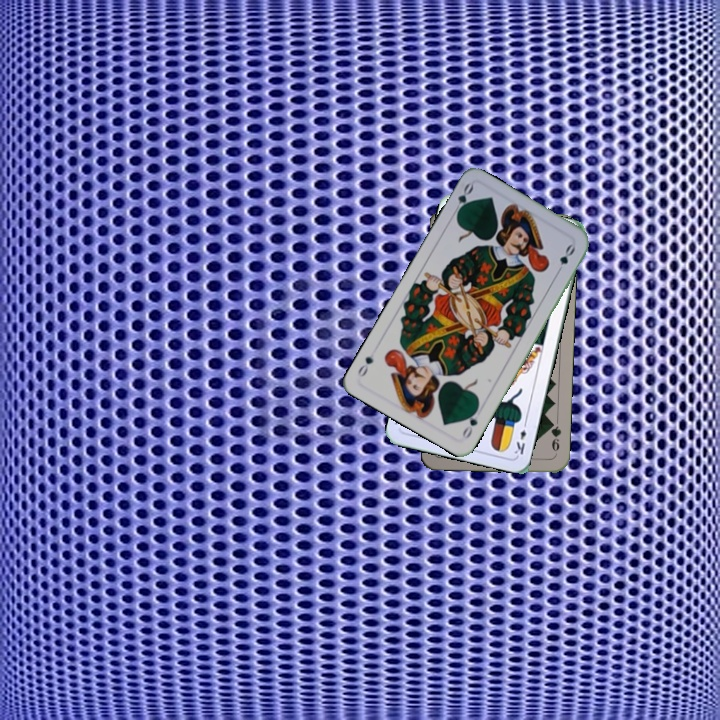EK: (510, 417, 529, 457)
G9: (546, 417, 563, 454)
GO: (448, 179, 476, 219), (458, 403, 481, 441)
